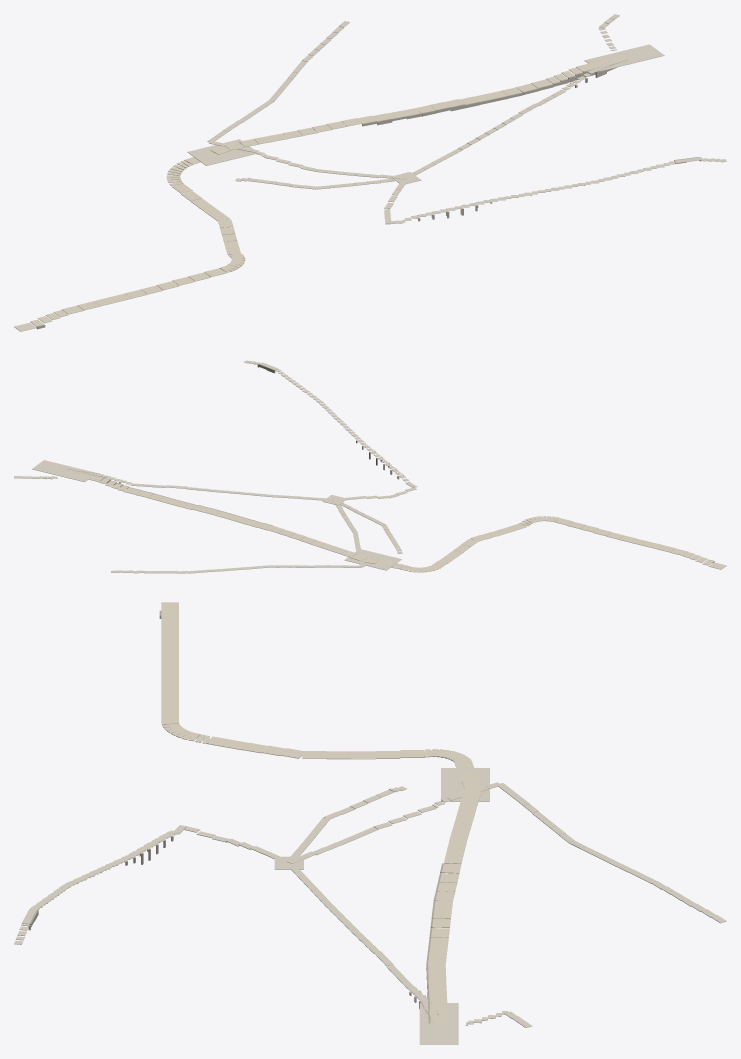
File: site-grounds.glb
The picture shows the model from 3 angles, top to bottom: view 1: azimuth 30°, elevation 25°; view 2: azimuth 150°, elevation 25°; view 3: azimuth 270°, elevation 25°; orthographic projection. The views are drawn at different scales.
Parts seen in each view (by area): view 1: gravel, dirt, river stone; view 2: gravel, dirt, river stone; view 3: gravel, dirt, river stone.
Boxes of the visible parts, left/top/right/bottom form: gravel: left=187, top=14, right=726, bottom=224; dirt: left=14, top=55, right=627, bottom=331; river stone: left=36, top=59, right=701, bottom=329; gravel: left=14, top=360, right=417, bottom=573; dirt: left=62, top=469, right=726, bottom=572; river stone: left=67, top=364, right=714, bottom=562; gravel: left=14, top=768, right=726, bottom=1044; dirt: left=161, top=602, right=481, bottom=1023; river stone: left=28, top=610, right=443, bottom=1023.
Bounding box in the file's own units: 227 × 17.39 × 146.
